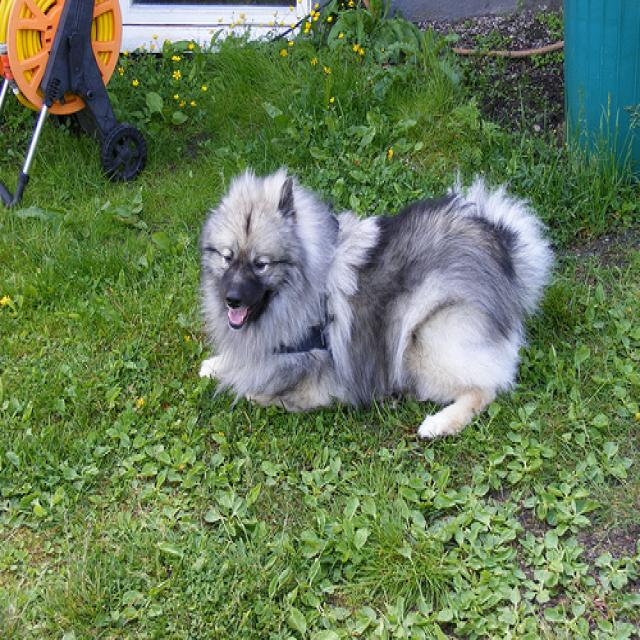dog-keeshond: (189, 157, 557, 447)
